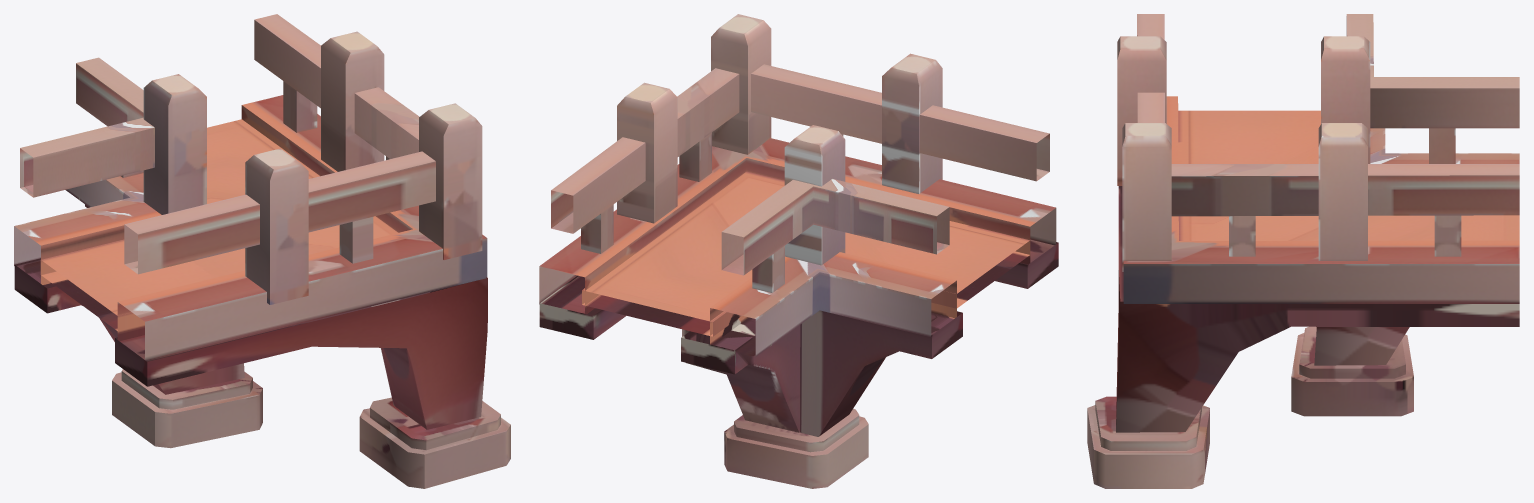
Rendered from Model_bridge_zhuanjiao.fbx.
The picture shows the model from 3 angles, left to right: view 1: azimuth 30°, elevation 25°; view 2: azimuth 150°, elevation 25°; view 3: azimuth 270°, elevation 25°; orthographic projection. The views are drawn at different scales.
Visible parts, largest first — view 1: zhuanjiao; view 2: zhuanjiao; view 3: zhuanjiao.
Part boxes in pixels (x1,y1,x2,y2): zhuanjiao: (14,14,510,488); zhuanjiao: (539,14,1058,488); zhuanjiao: (1087,14,1519,488).
Size of the model in its own units: 1.56 by 1.42 by 1.63.
1 material, 1 textured.
